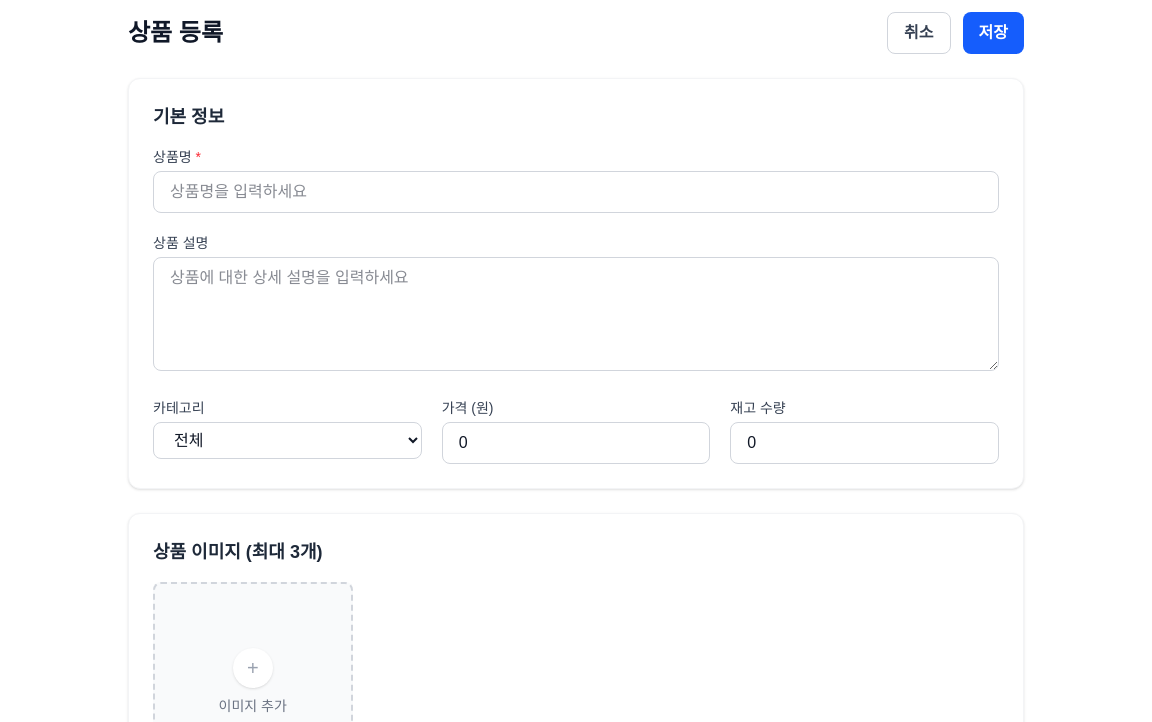
Test case: ProductCreateForm › 폼 검증 에러 표시 › 상품명이 비어있을 때 에러 메시지가 표시된다
Click the button "저장" at (993, 33), box [962, 12, 1024, 54]
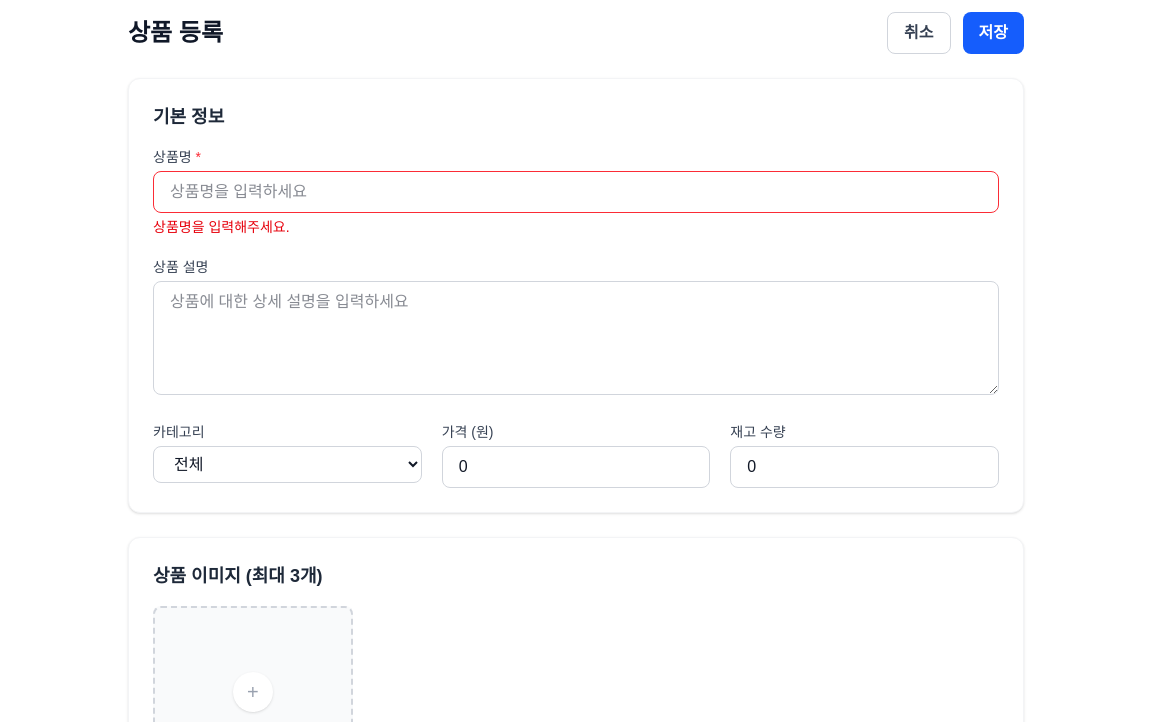
Expected: the text "상품명을 입력해주세요." is shown, [153, 219, 290, 235]
